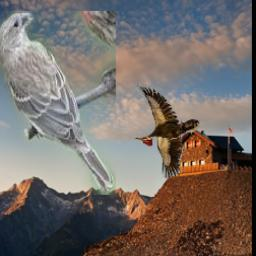Sparrow: (0, 11, 116, 195)
Woodpecker: (135, 82, 200, 178)
